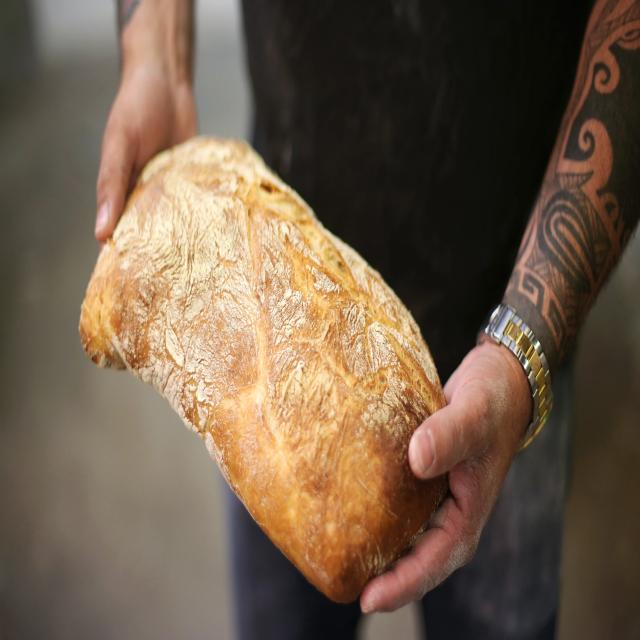Ciabatta: (79, 138, 448, 602)
